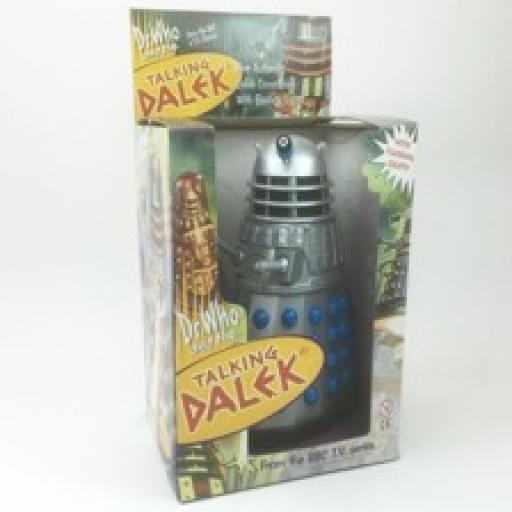dalek: (219, 131, 359, 434), (174, 166, 224, 326)
